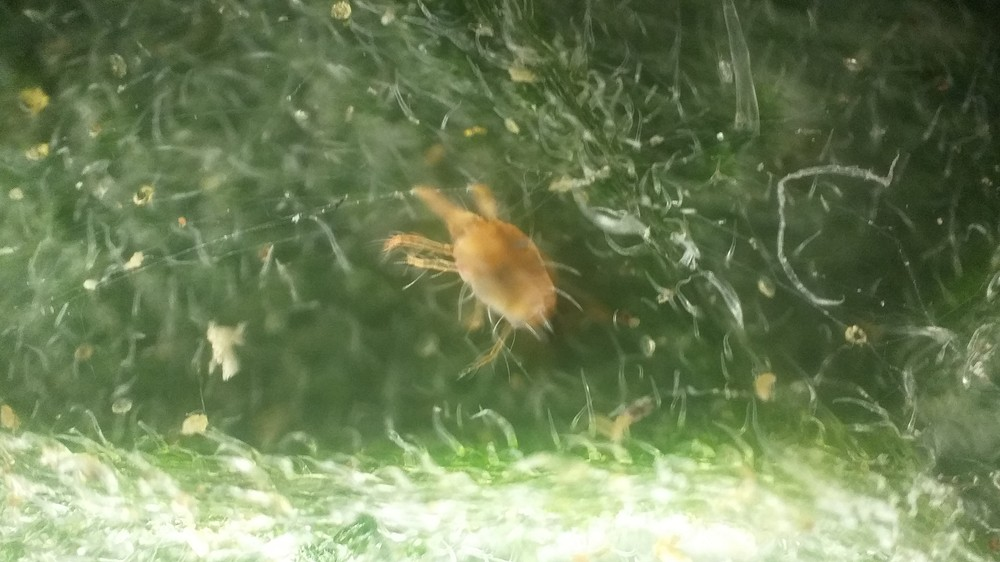Aracnido Rojo: (376, 171, 614, 401)
